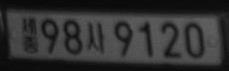0: (183, 21, 205, 58)
1: (136, 20, 156, 57)
2: (160, 21, 182, 58)
8: (62, 18, 83, 54)
9: (113, 20, 133, 57), (40, 17, 59, 54)
사: (86, 21, 106, 53)
세종_V: (21, 16, 39, 54)
